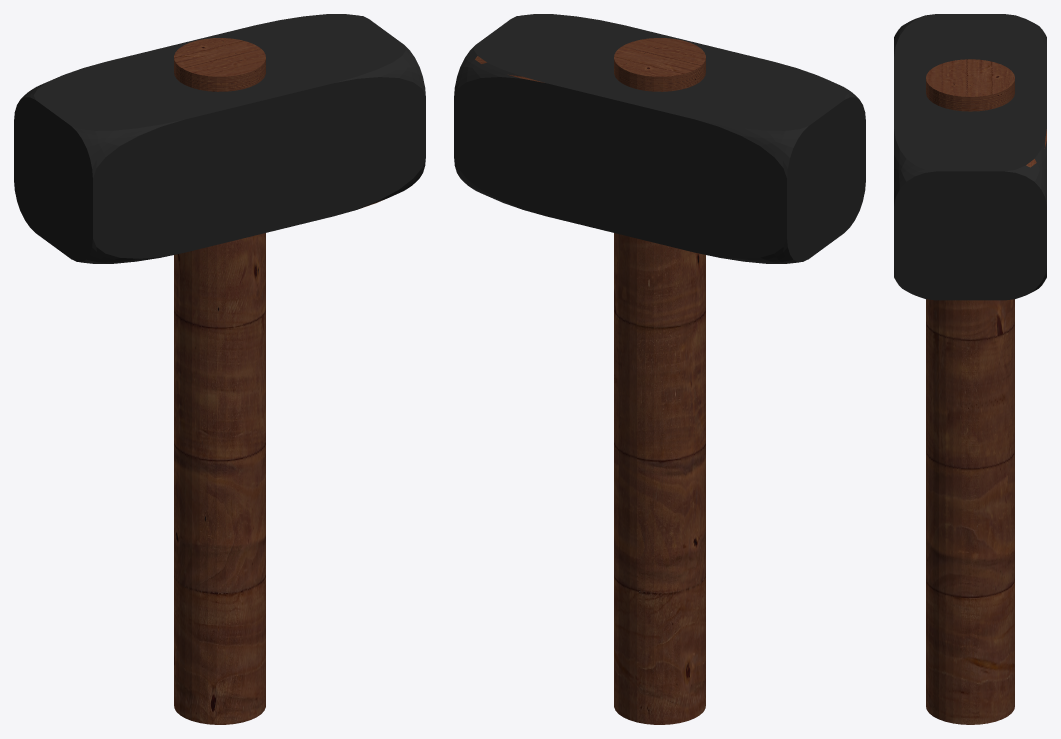
The model's file is item7.fbx.
3 renders of one model, left to right at view 1: azimuth 30°, elevation 25°; view 2: azimuth 150°, elevation 25°; view 3: azimuth 270°, elevation 25°, orthographic. The views are drawn at different scales.
Parts seen in each view (by area): view 1: Cylinder.001; view 2: Cylinder.001; view 3: Cylinder.001.
Part boxes in pixels (x1,y1,x2,y2): Cylinder.001: [14, 14, 425, 724]; Cylinder.001: [454, 14, 865, 724]; Cylinder.001: [894, 14, 1046, 724].
Bounding box in the file's own units: 190 × 354 × 78.16.
Materials: 2 (1 with a texture image).
